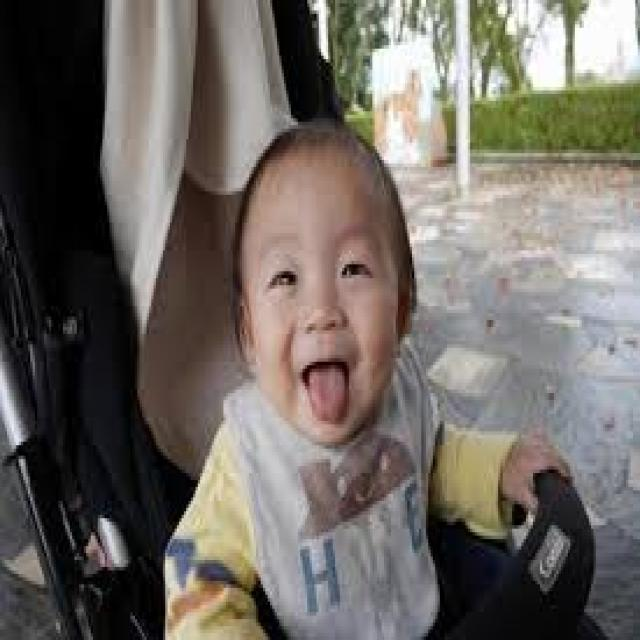tongue: (305, 370, 352, 418)
